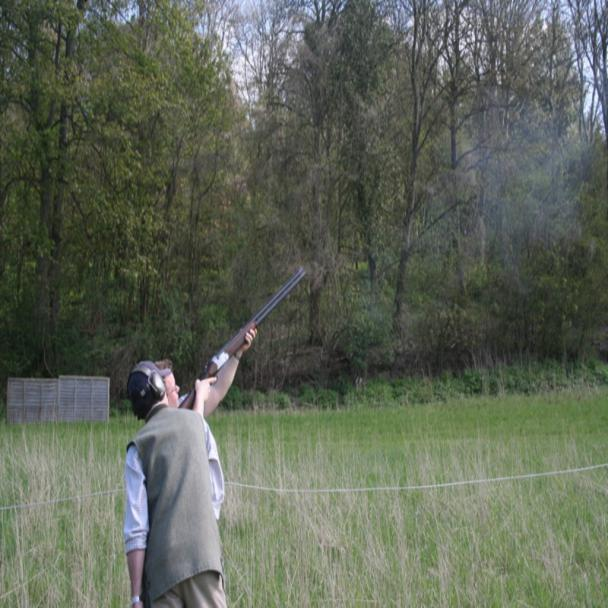Gun: (186, 256, 313, 398)
Hand: (186, 374, 221, 411)
